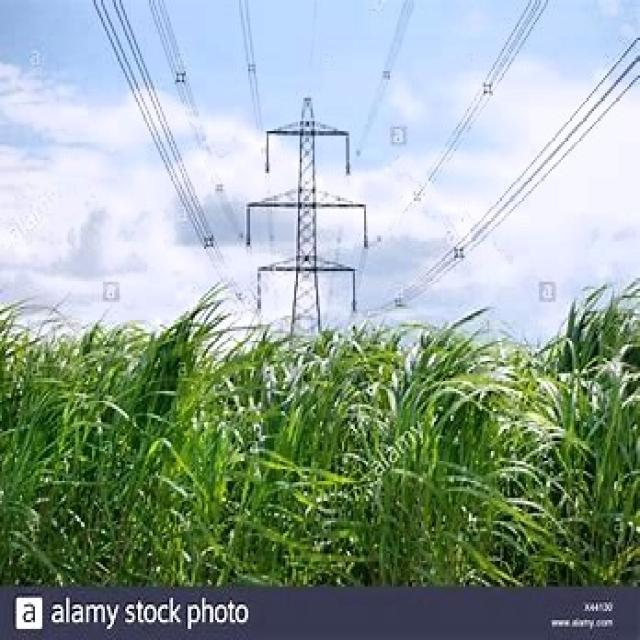utility poles: (232, 71, 366, 581)
